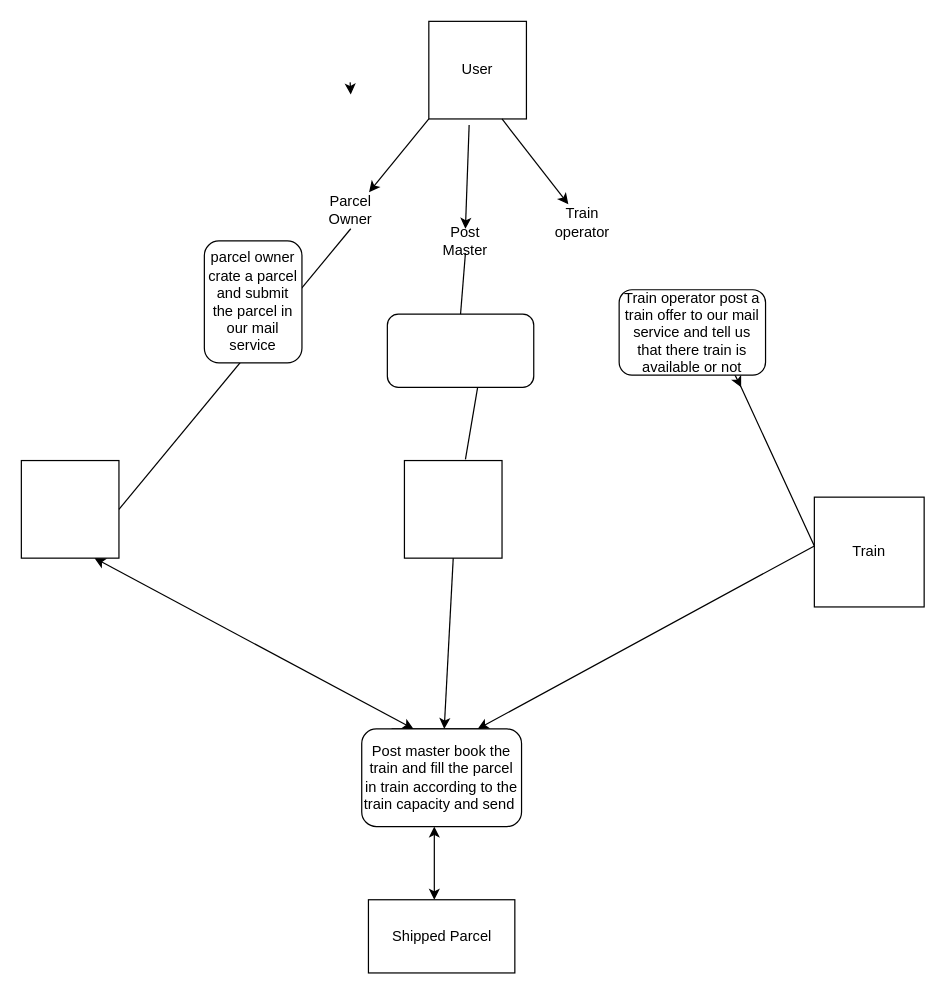
Image size: 946x994. Some labels were removed from this diagram. The centre of each missing label's shape, as x and y in pixels:
"Parcel" goes at (x=69, y=508).
"Post master create tracks for the train" goes at (x=460, y=350).
"Train track" goes at (x=452, y=508).
